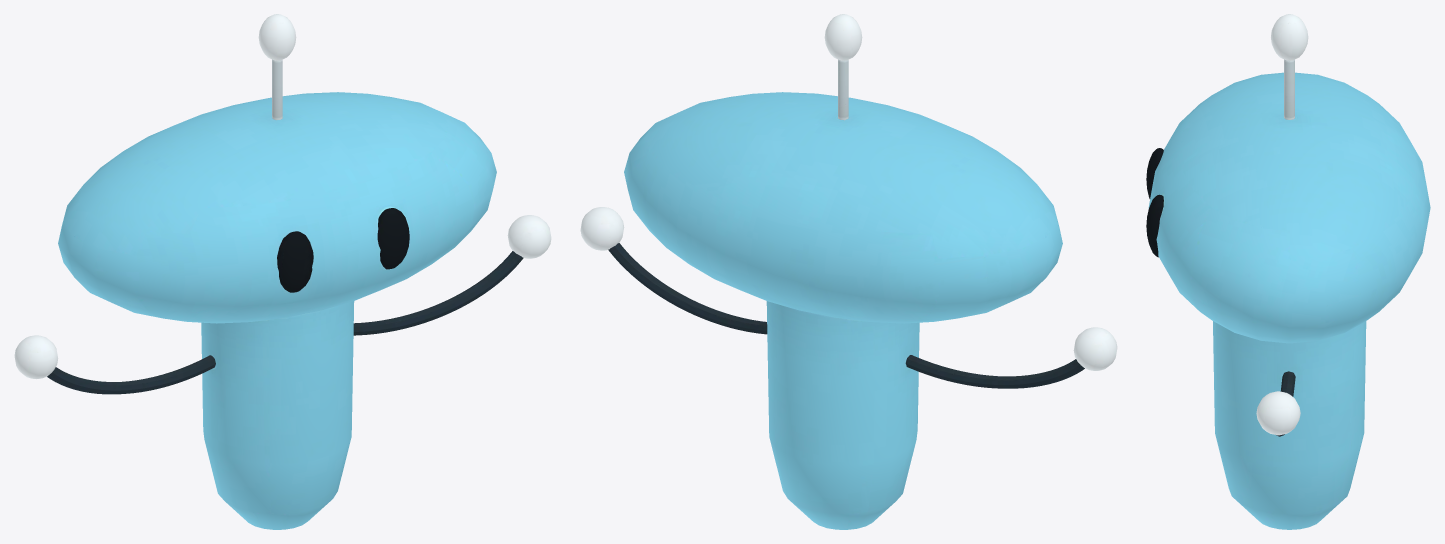
The picture shows the model from 3 angles, left to right: view 1: azimuth 30°, elevation 25°; view 2: azimuth 150°, elevation 25°; view 3: azimuth 270°, elevation 25°; orthographic projection.
Parts seen in each view (by area): view 1: ArisV2; view 2: ArisV2; view 3: ArisV2.
Boxes of the visible parts, <box> form: ArisV2: <box>14,14,551,529</box>; ArisV2: <box>580,14,1117,529</box>; ArisV2: <box>1146,14,1430,529</box>.
Size of the model in its own units: 1.11 by 1.01 by 0.514.
1 material, 1 textured.
